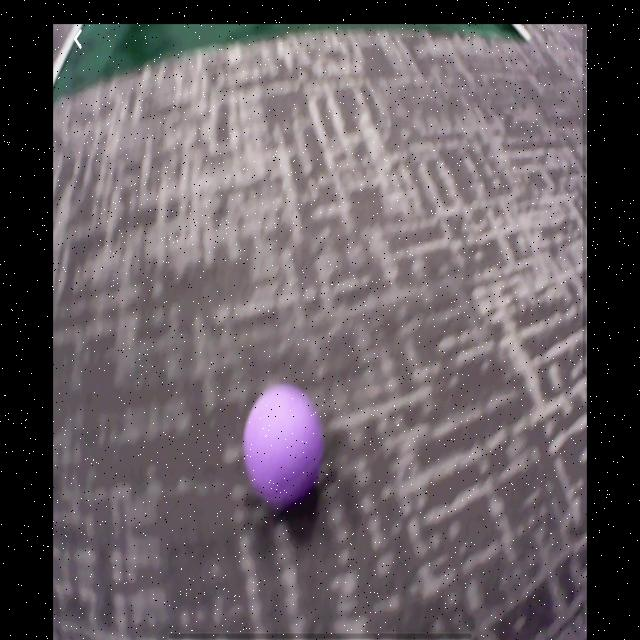ball: (242, 385, 322, 505)
